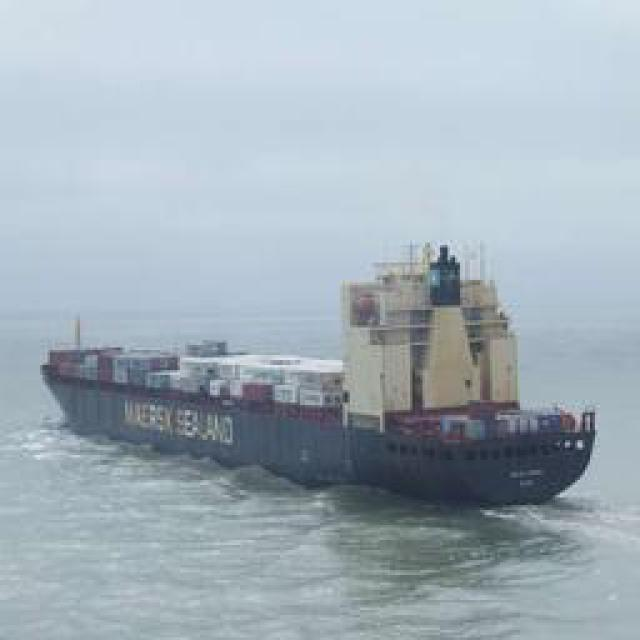Ship: (29, 241, 615, 509)
